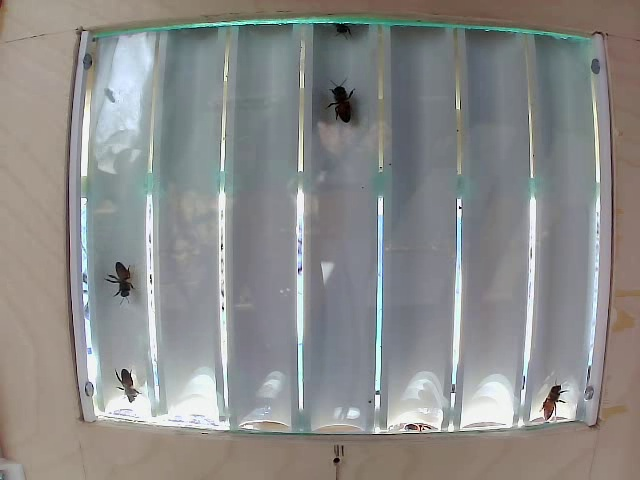bee: (91, 251, 156, 307), (319, 81, 364, 138), (518, 383, 578, 424), (116, 371, 150, 412)
